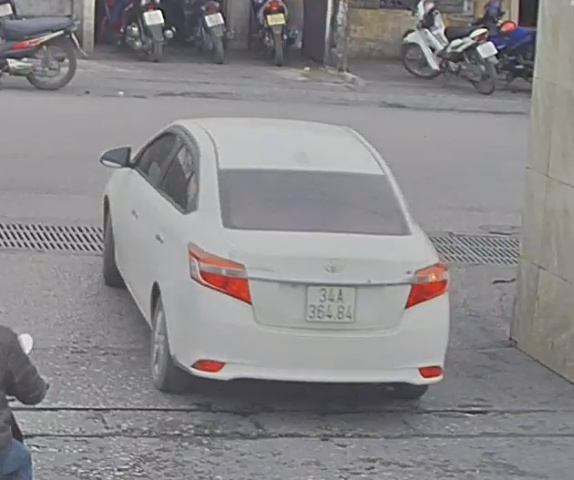vehicle plate: (301, 282, 358, 321)
